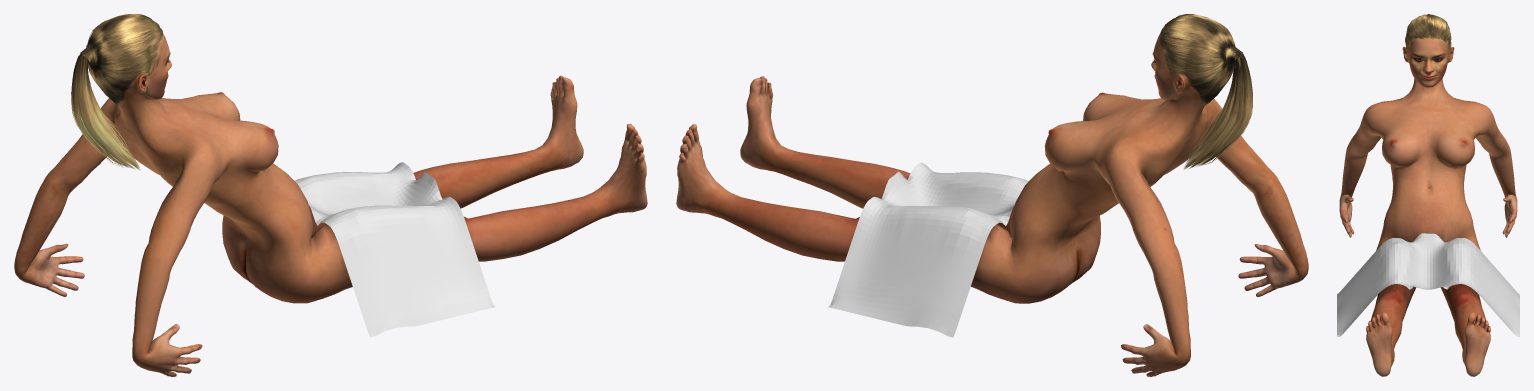
The model's file is kundin_up_h10.glb.
The picture shows the model from 3 angles, left to right: view 1: azimuth 30°, elevation 25°; view 2: azimuth 150°, elevation 25°; view 3: azimuth 270°, elevation 25°; orthographic projection. The views are drawn at different scales.
Parts seen in each view (by area): view 1: body, towel, hair; view 2: body, towel, hair; view 3: body, towel, hair.
Boxes of the visible parts, x1,y1,x2,y2 form: body: (14,33,647,376); towel: (295,162,495,337); hair: (71,14,163,169); body: (676,32,1308,376); towel: (828,162,1028,337); hair: (1159,14,1252,169); body: (1339,37,1517,376); towel: (1337,233,1519,336); hair: (1405,14,1451,53).
Bounding box in the file's own units: 1.47 × 0.8231 × 0.62.
5 materials, 5 textured.
